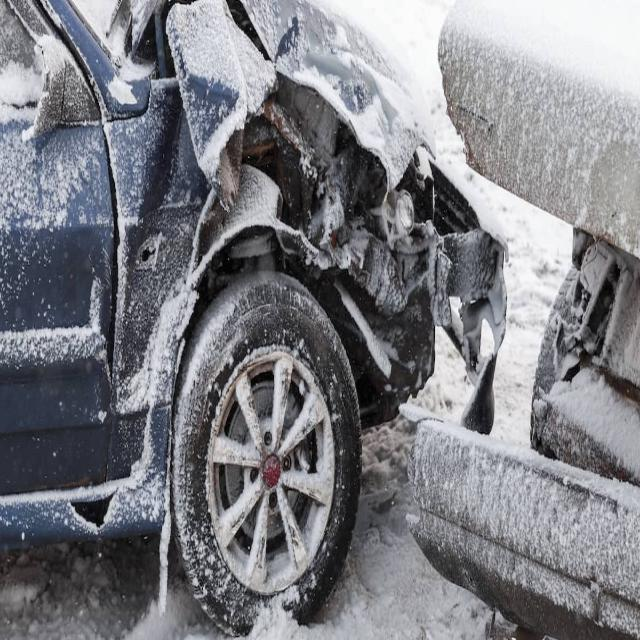Accident: (1, 0, 512, 640)
